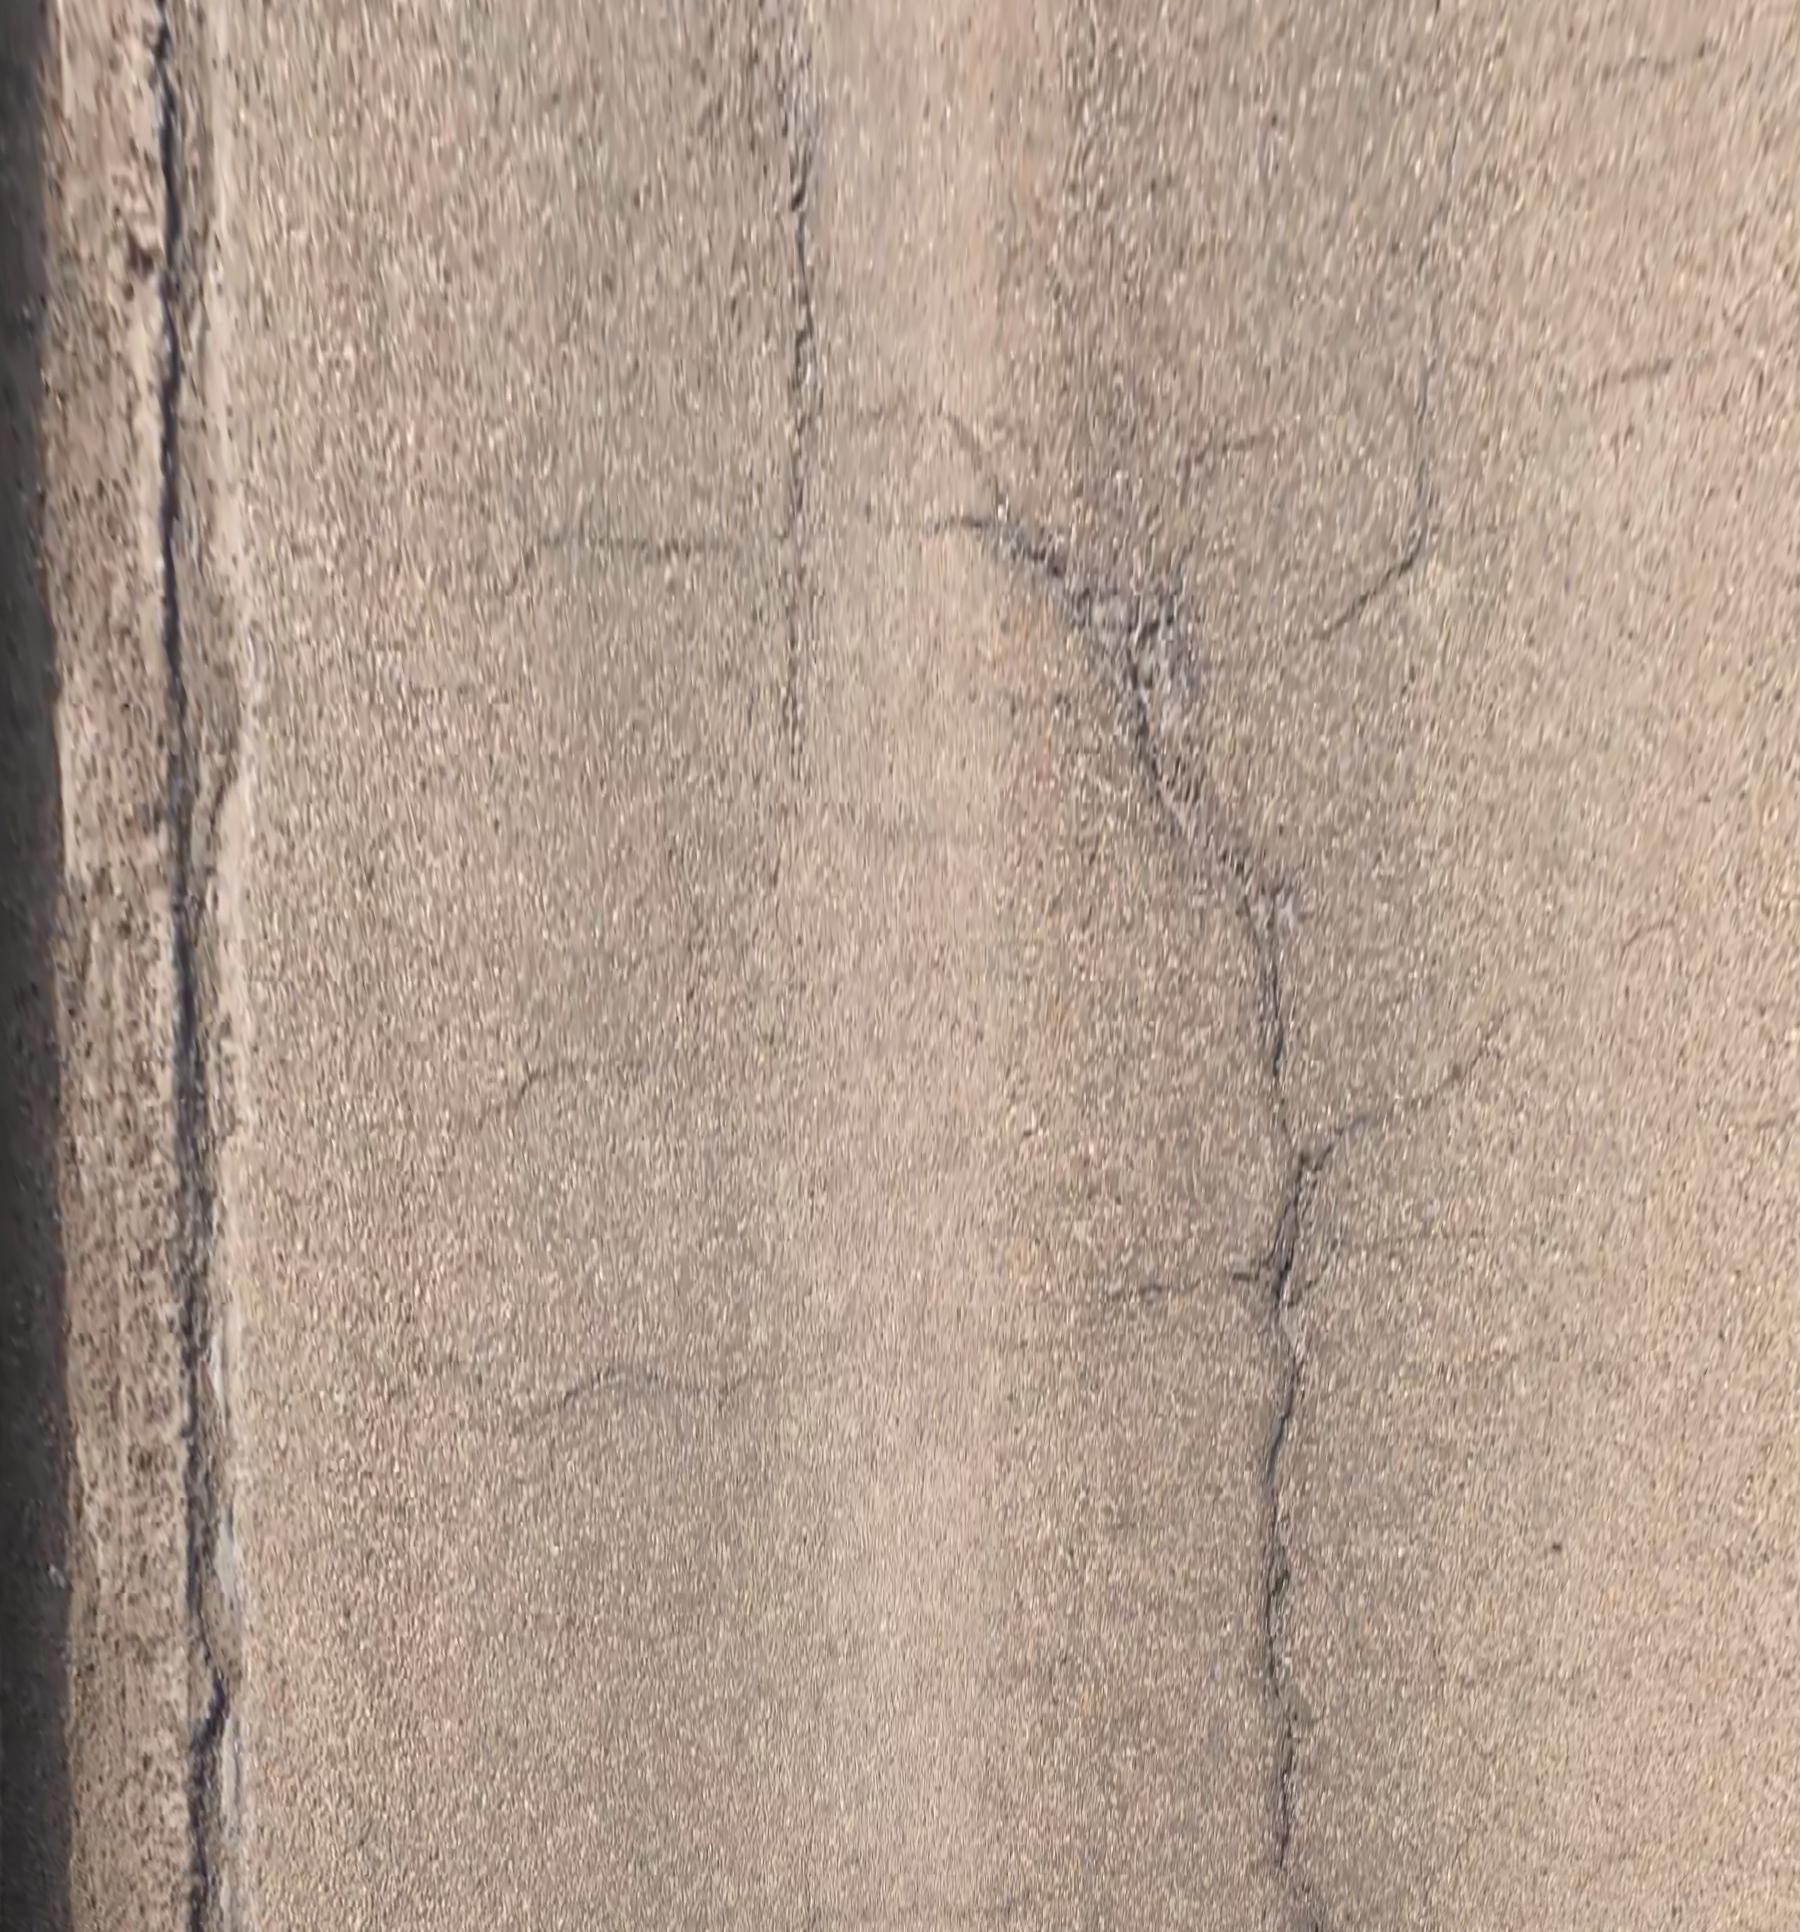pothole: (1086, 584, 1193, 763)
